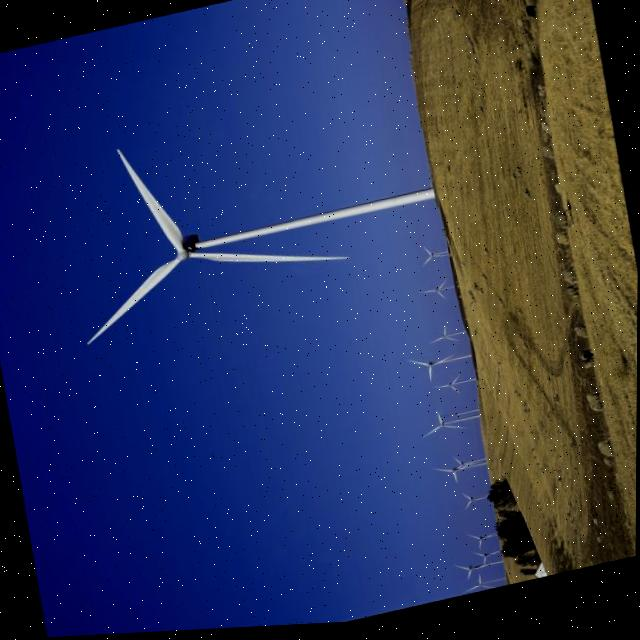solid-blade: (88, 260, 181, 344), (118, 149, 184, 252), (191, 252, 348, 264)
